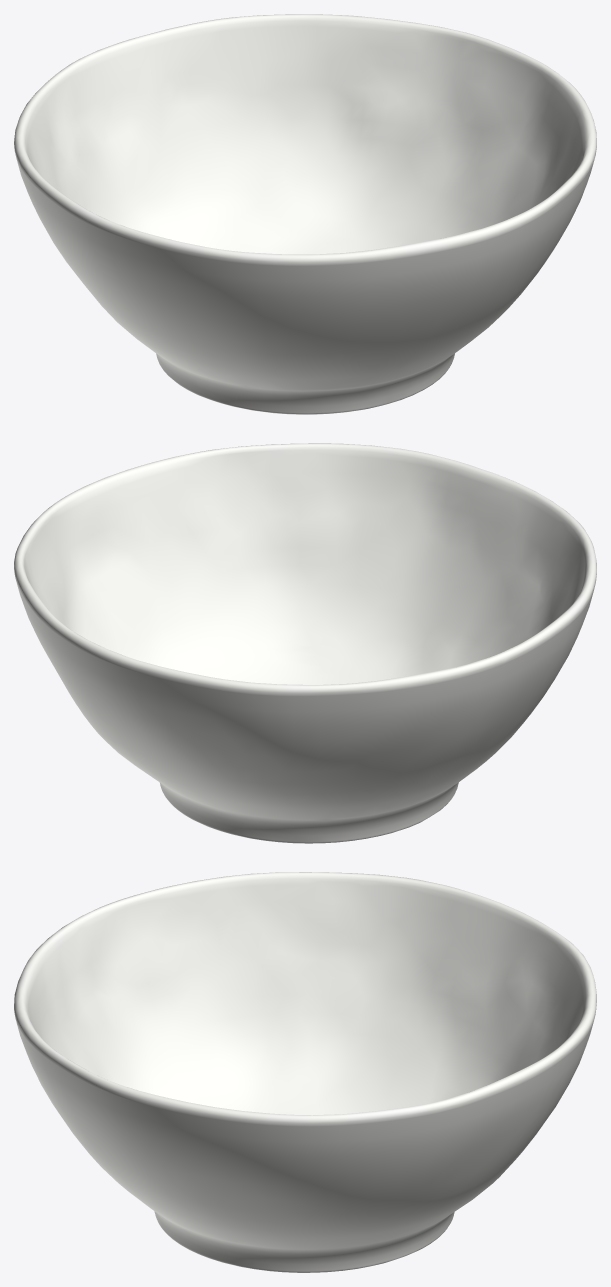
Rendered from FORELLTETRA Bol, blanc, 15 cm.glb.
The picture shows the model from 3 angles, top to bottom: view 1: azimuth 30°, elevation 25°; view 2: azimuth 150°, elevation 25°; view 3: azimuth 270°, elevation 25°; orthographic projection.
Visible parts, largest first — view 1: ASY_ART_70622637_S01_NV01; view 2: ASY_ART_70622637_S01_NV01; view 3: ASY_ART_70622637_S01_NV01.
Part boxes in pixels (x1,y1,x2,y2): ASY_ART_70622637_S01_NV01: [14, 14, 596, 414]; ASY_ART_70622637_S01_NV01: [14, 443, 596, 843]; ASY_ART_70622637_S01_NV01: [14, 872, 596, 1272].
Bounding box in the file's own units: 0.1444 × 0.0595 × 0.1436.
2 materials, 2 textured.
